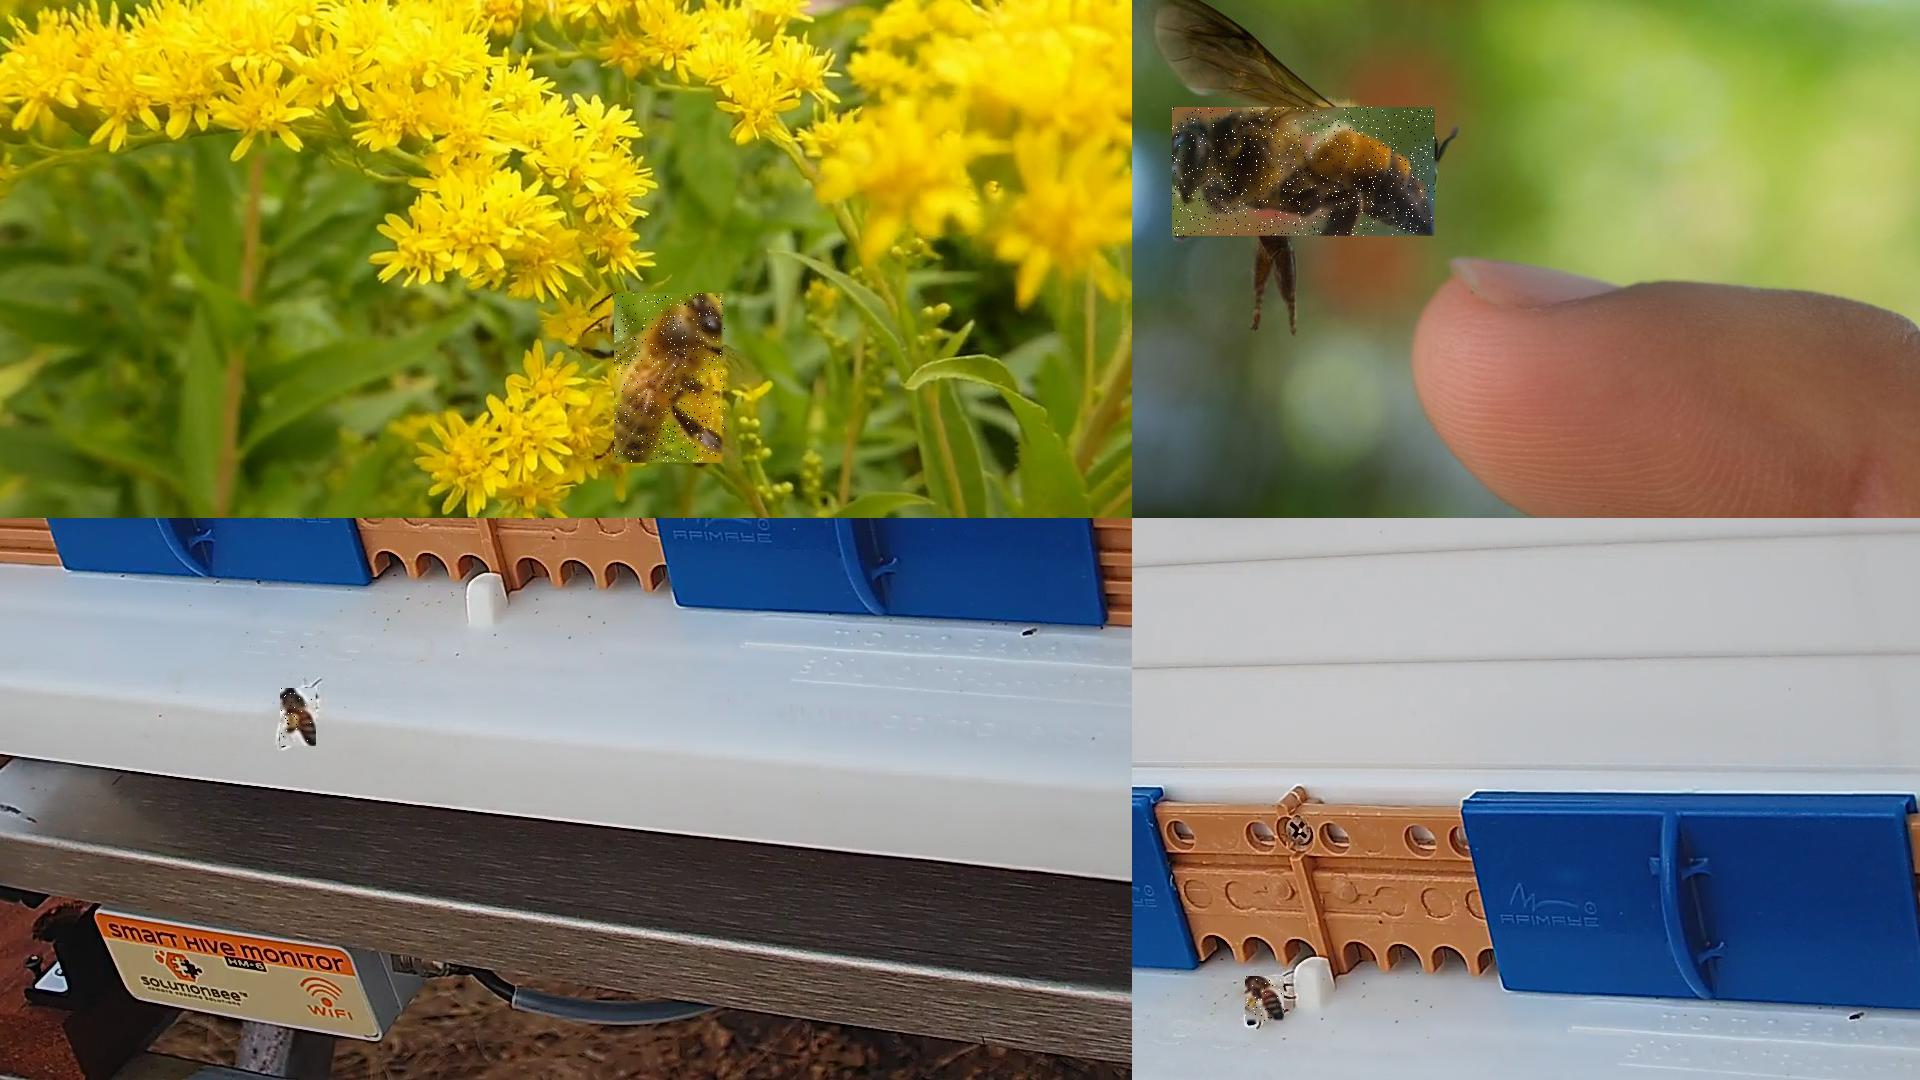bee: (1172, 107, 1436, 237), (615, 294, 727, 464)
pollenbee: (281, 688, 318, 748), (1245, 977, 1284, 1025)
